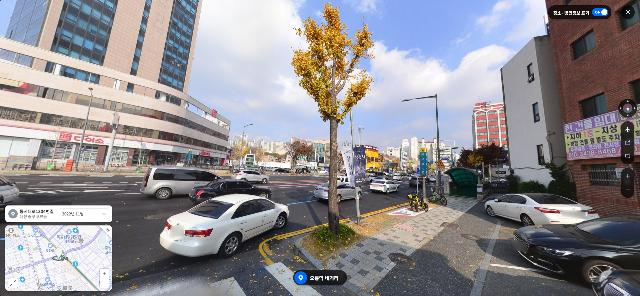ginkgo: (289, 3, 377, 236)
other: (281, 139, 317, 173)
